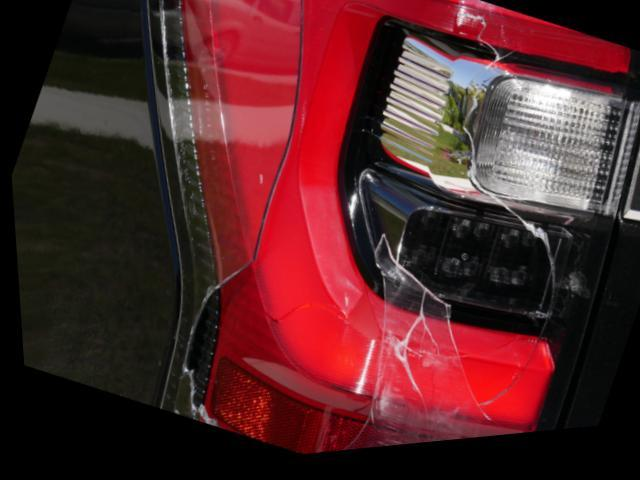lamp broken: (145, 0, 640, 459)
